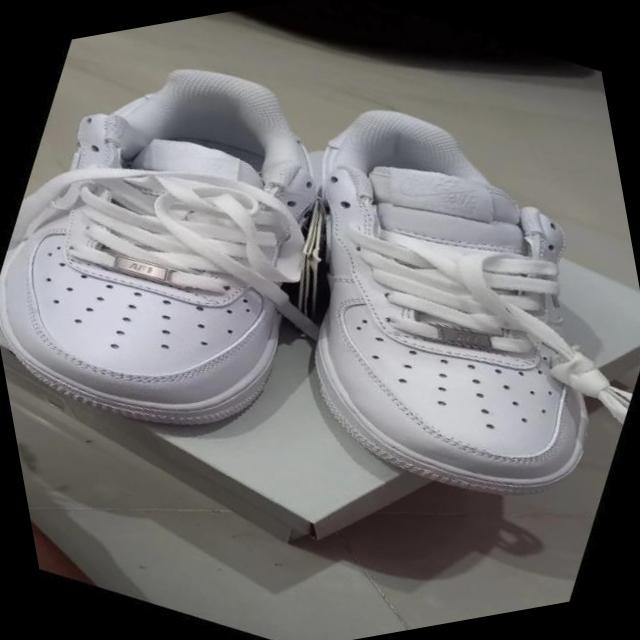nike_original_airforce: (180, 44, 640, 575), (0, 0, 415, 498)
